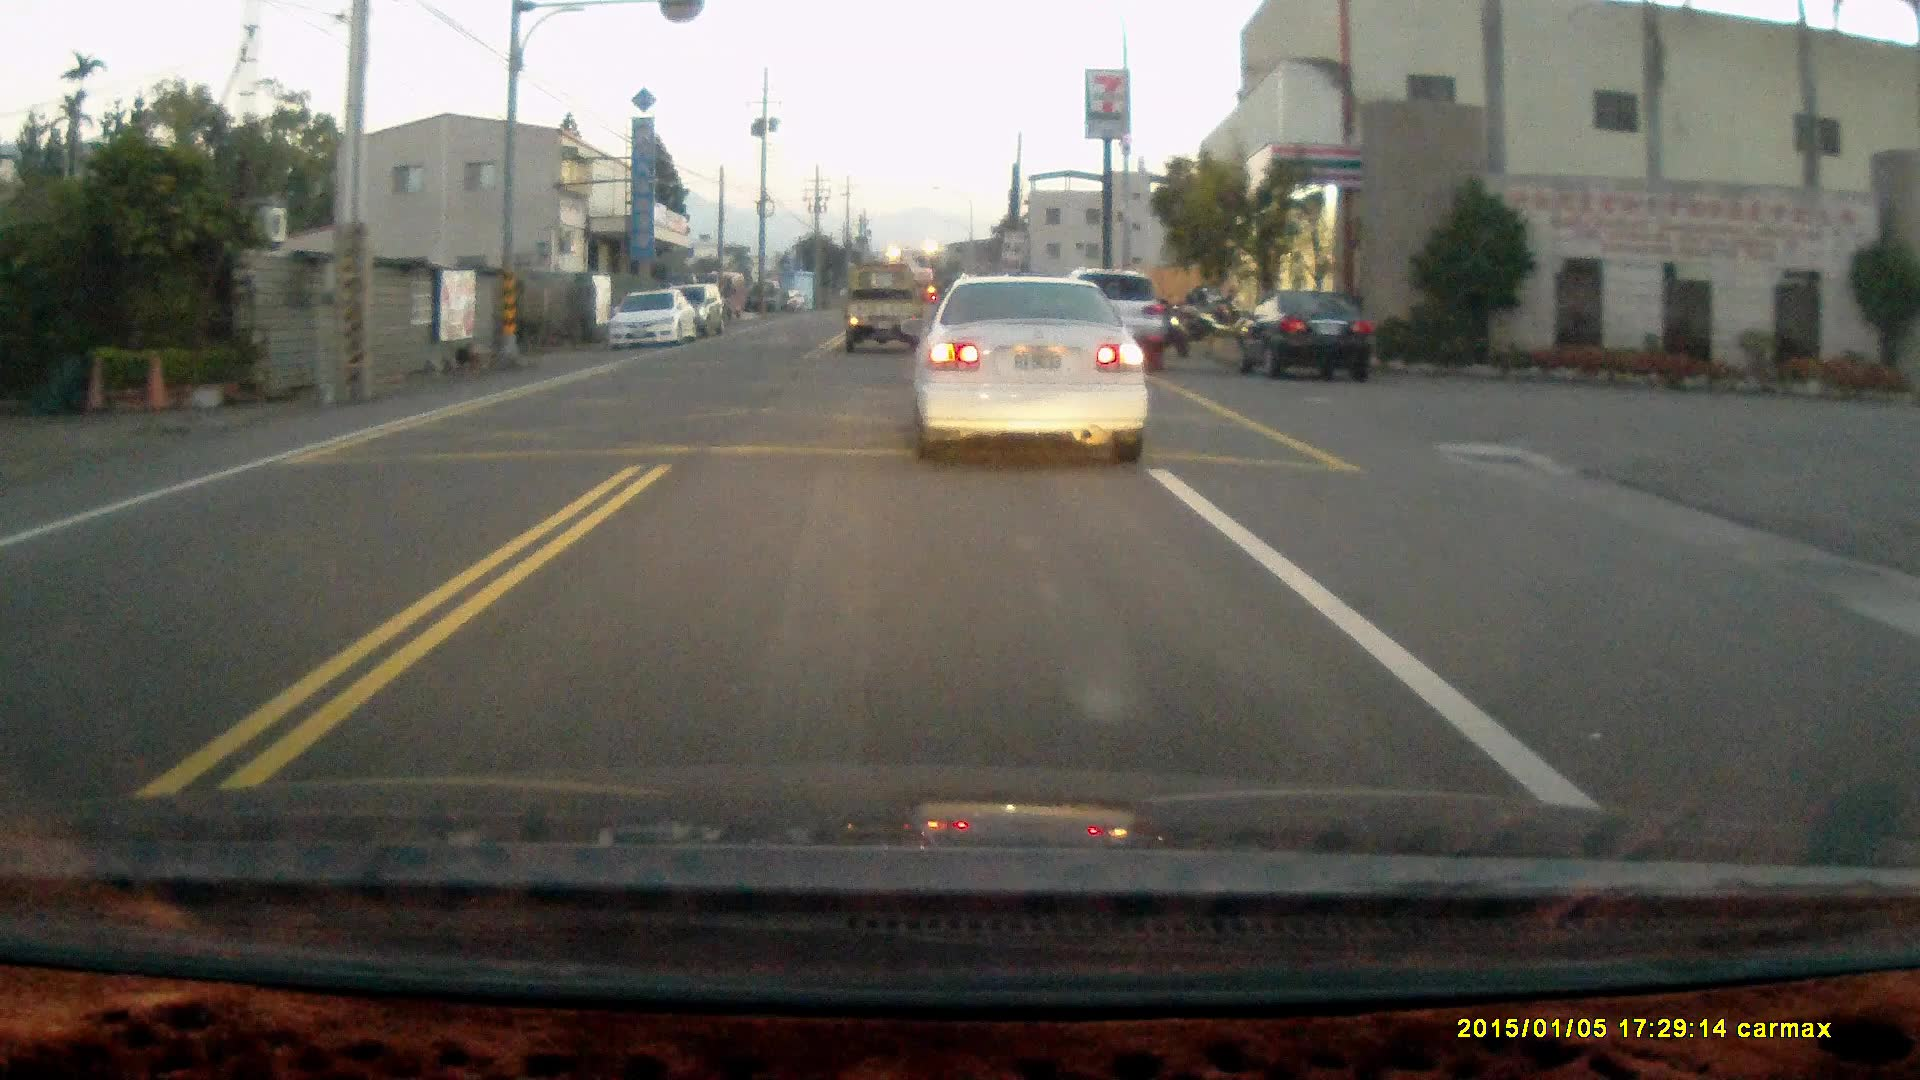vehicle: (914, 269, 1156, 463), (1230, 287, 1378, 382), (1055, 269, 1174, 372), (841, 265, 934, 356), (601, 286, 702, 351)
